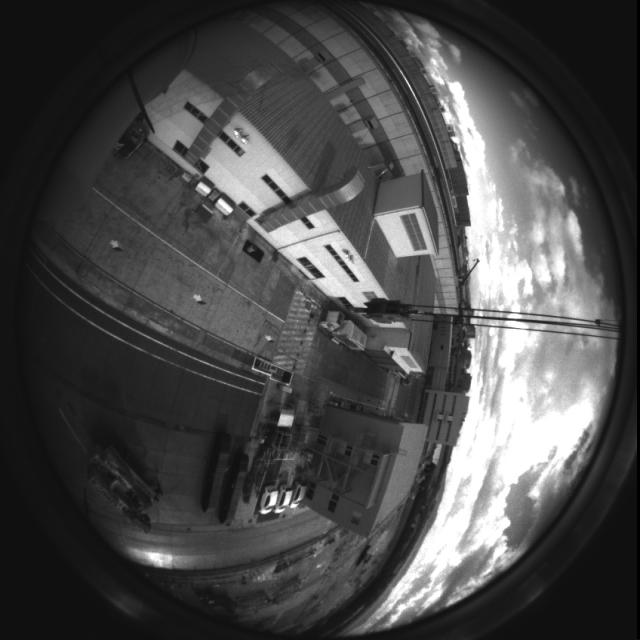rope: (334, 295, 638, 347)
